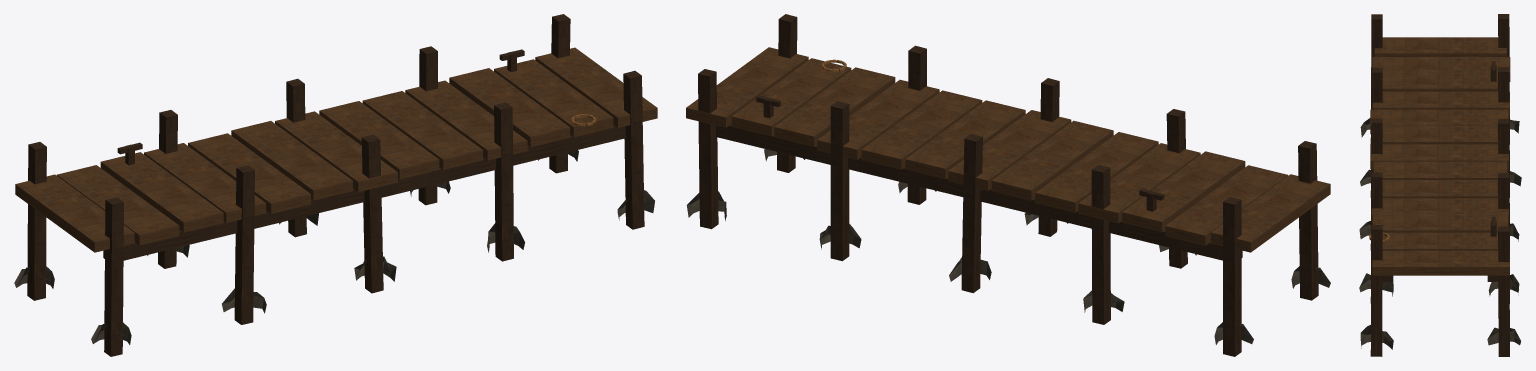
The model's file is old_fishing_jetty.glb.
3 renders of one model, left to right at view 1: azimuth 30°, elevation 25°; view 2: azimuth 150°, elevation 25°; view 3: azimuth 270°, elevation 25°, orthographic. The views are drawn at different scales.
Visible parts, largest first — view 1: oak_planks_and_supports, dark_timber_and_frame, broken_fieldstone; view 2: oak_planks_and_supports, dark_timber_and_frame, broken_fieldstone; view 3: oak_planks_and_supports, dark_timber_and_frame, broken_fieldstone.
Part boxes in pixels (x1,y1,x2,y2): oak_planks_and_supports: [15, 47, 657, 252]; dark_timber_and_frame: [27, 14, 644, 356]; broken_fieldstone: [14, 150, 654, 344]; oak_planks_and_supports: [686, 47, 1330, 252]; dark_timber_and_frame: [698, 14, 1318, 356]; broken_fieldstone: [686, 149, 1330, 344]; oak_planks_and_supports: [1370, 37, 1510, 275]; dark_timber_and_frame: [1370, 14, 1509, 356]; broken_fieldstone: [1359, 118, 1521, 349].
Bounding box in the file's own units: 9.04 × 2.33 × 2.72.
4 materials, 4 textured.
